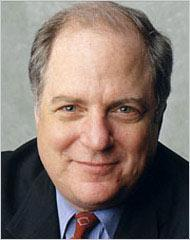normalMouth: (69, 150, 124, 176)
